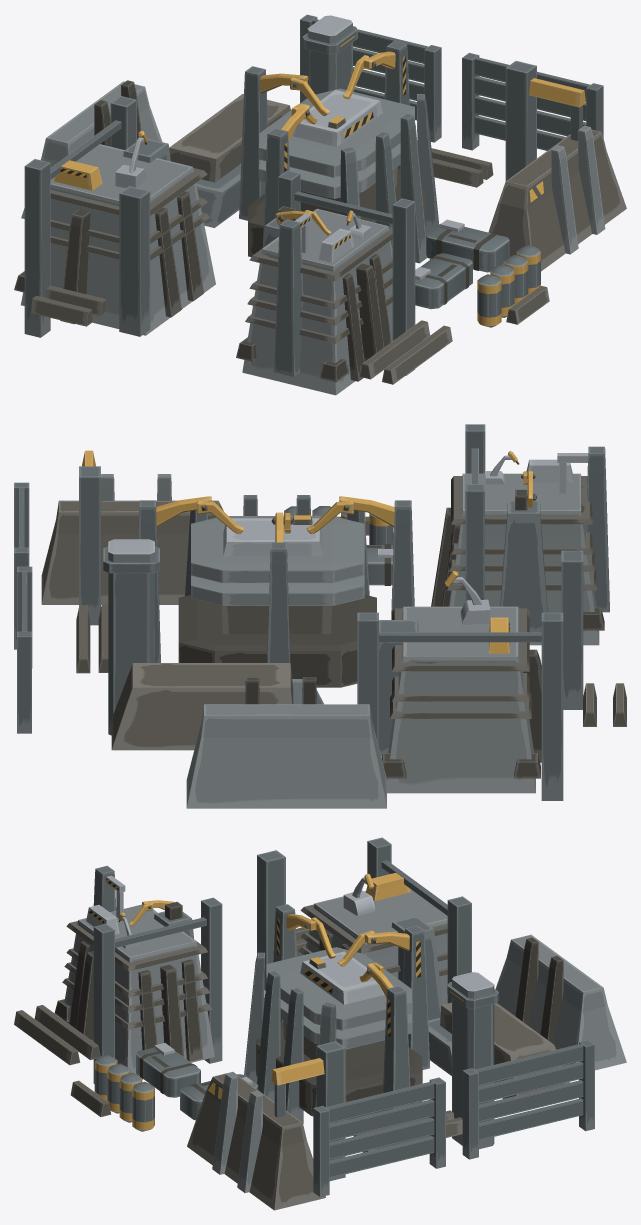
The model's file is construct.FBX.
The picture shows the model from 3 angles, top to bottom: view 1: azimuth 30°, elevation 25°; view 2: azimuth 150°, elevation 25°; view 3: azimuth 270°, elevation 25°; orthographic projection. The views are drawn at different scales.
Visible parts, largest first — view 1: playercity_construct, g, h, Object008, b; view 2: playercity_construct, g, Object008, a, c, h, a1, c1; view 3: playercity_construct, g, h, Object008, b.
Boxes of the visible parts, box(x1,y1,x2,y2) form: playercity_construct: box(14, 14, 626, 395); g: box(505, 61, 585, 180); h: box(53, 160, 102, 190); Object008: box(302, 26, 357, 54); b: box(260, 73, 308, 93); playercity_construct: box(14, 424, 626, 808); g: box(79, 450, 100, 625); Object008: box(103, 546, 159, 573); a: box(339, 496, 394, 526); c: box(156, 496, 211, 526); h: box(489, 617, 509, 653); a1: box(306, 501, 353, 533); c1: box(197, 501, 244, 533); playercity_construct: box(14, 837, 626, 1210); g: box(271, 1041, 345, 1181); h: box(365, 873, 410, 901); Object008: box(447, 982, 498, 1008); b: box(364, 932, 409, 950).
Size of the model in its own units: 459 by 456 by 151.
